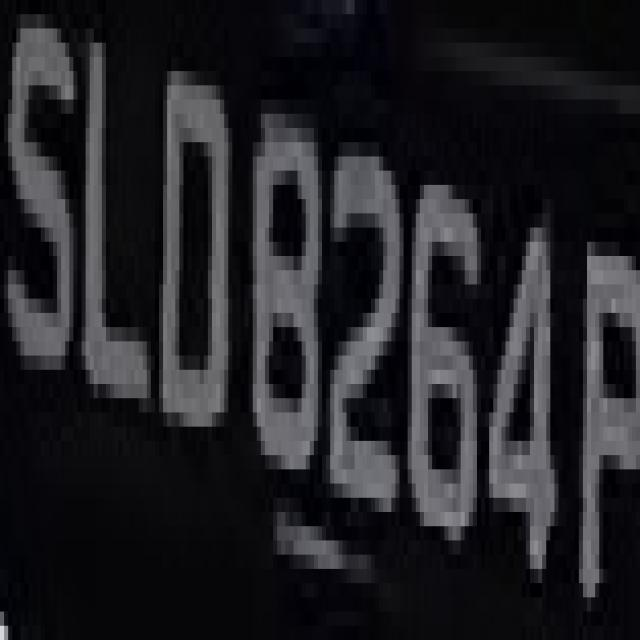2: (318, 114, 404, 540)
4: (481, 142, 567, 640)
6: (408, 128, 481, 569)
8: (241, 85, 330, 512)
D: (138, 57, 236, 441)
L: (73, 57, 143, 412)
P: (566, 170, 640, 625)
S: (8, 14, 78, 384)
